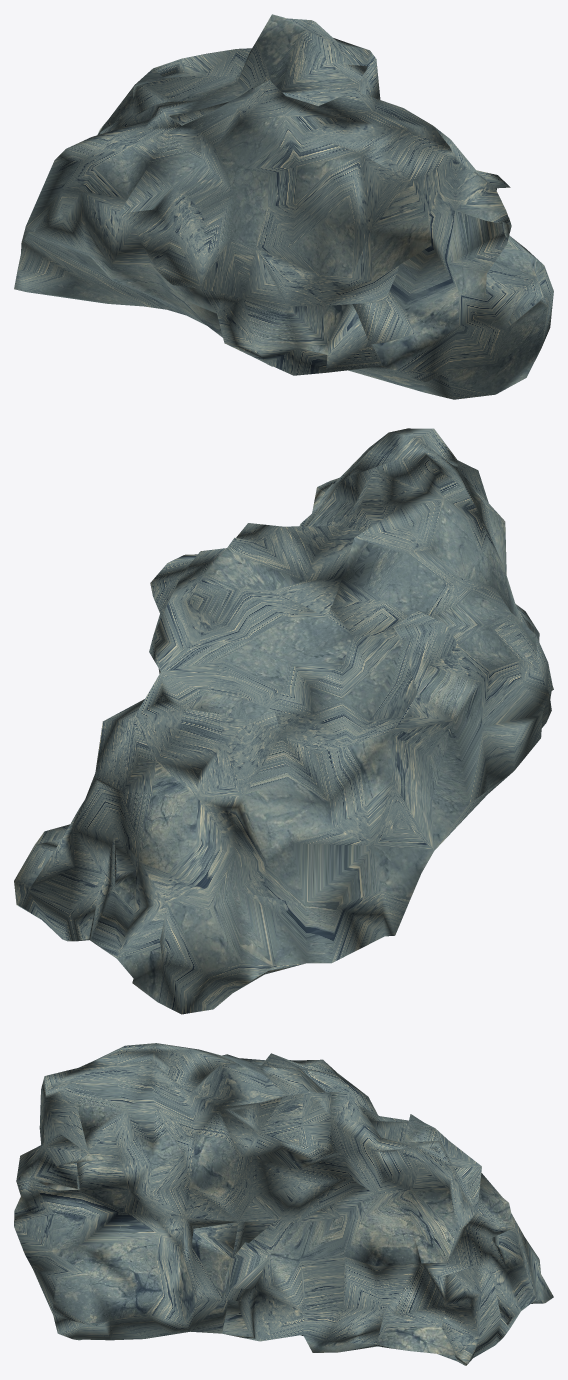
Rendered from boulder-far.glb.
The picture shows the model from 3 angles, top to bottom: view 1: azimuth 30°, elevation 25°; view 2: azimuth 150°, elevation 25°; view 3: azimuth 270°, elevation 25°; orthographic projection. The views are drawn at different scales.
Visible parts, largest first — view 1: boulder_01; view 2: boulder_01; view 3: boulder_01.
Boxes of the visible parts, x1,y1,x2,y2 form: boulder_01: (14,14,553,399); boulder_01: (14,428,553,1014); boulder_01: (14,1043,553,1365).
Size of the model in its own units: 3.68 by 2.9 by 5.4.
Materials: 1 (1 with a texture image).
